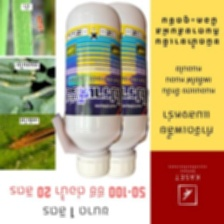insecticide: (61, 0, 124, 180), (86, 0, 149, 180)
